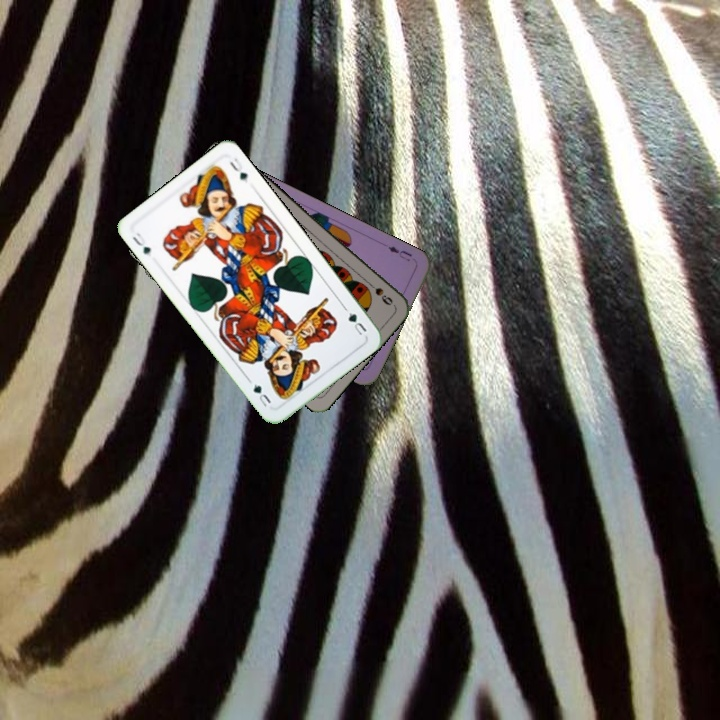EU: (384, 242, 414, 264)
GU: (344, 308, 369, 339), (128, 228, 153, 257)
S9: (362, 277, 396, 308)
